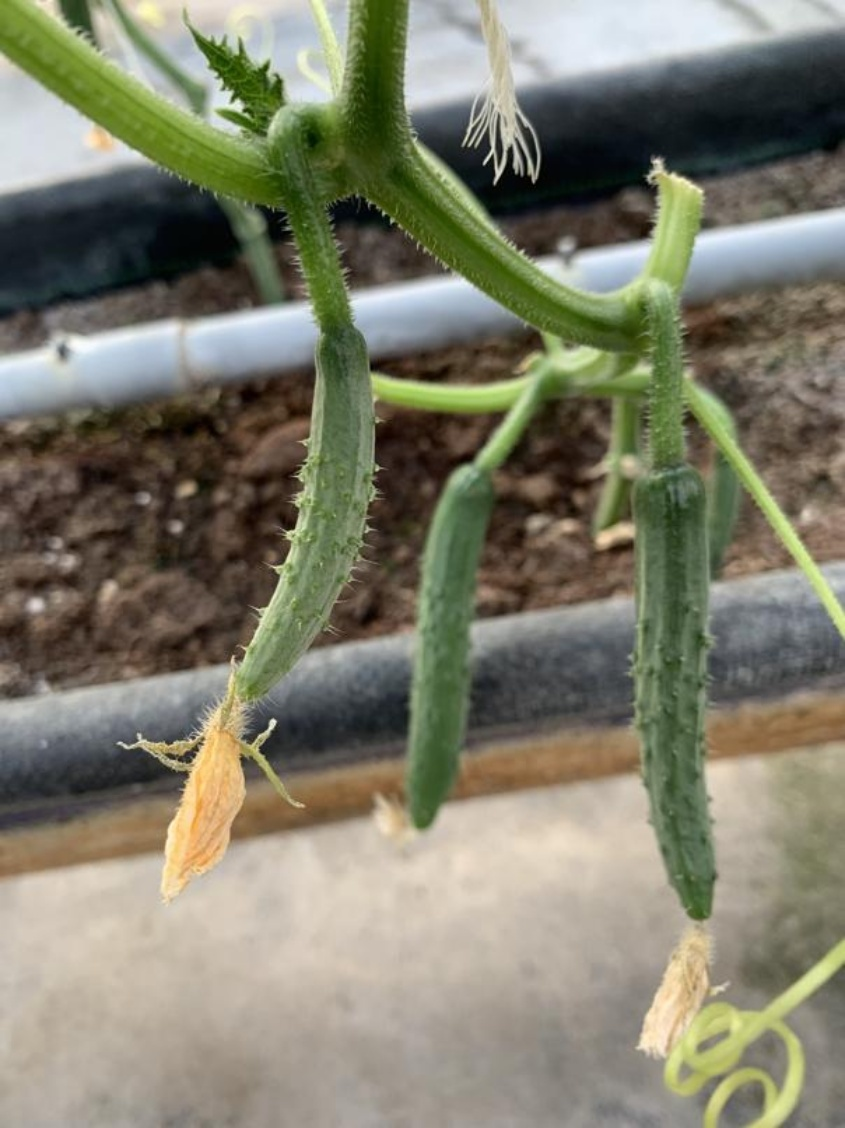growth: (396, 460, 496, 838)
